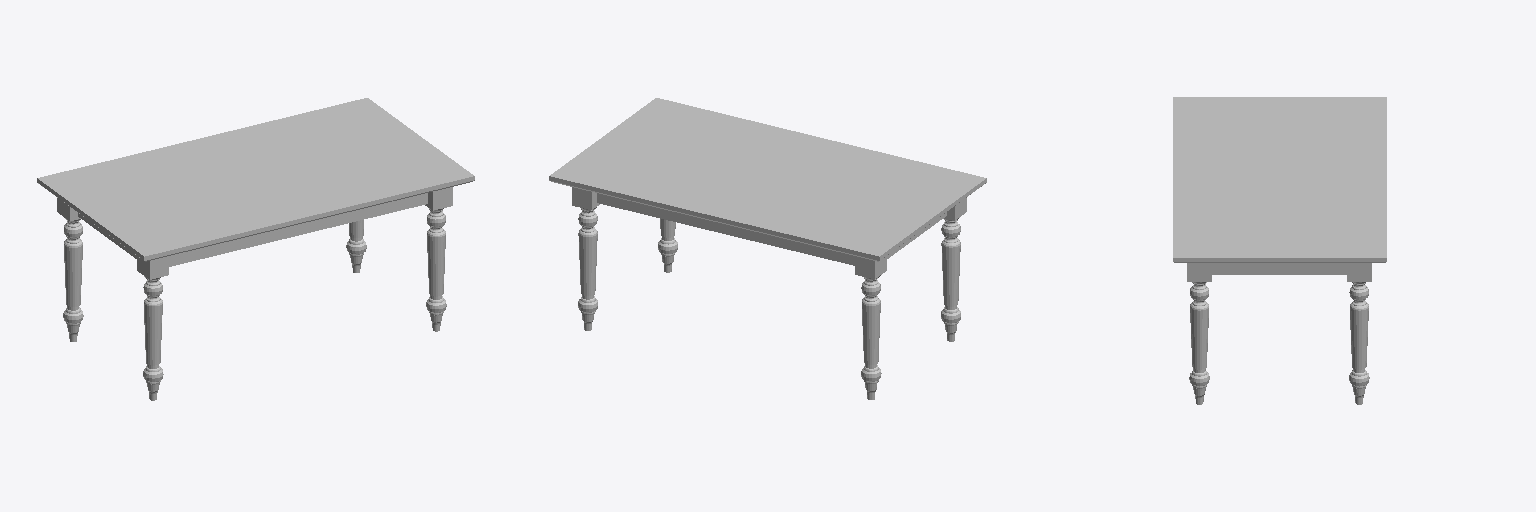
File: table.obj
3 renders of one model, left to right at view 1: azimuth 30°, elevation 25°; view 2: azimuth 150°, elevation 25°; view 3: azimuth 270°, elevation 25°, orthographic.
Visible parts, largest first — view 1: table; view 2: table; view 3: table.
Part boxes in pixels (left/top/right/bottom): table: left=37, top=98, right=474, bottom=400; table: left=549, top=98, right=986, bottom=399; table: left=1173, top=97, right=1386, bottom=404.
Bounding box in the file's own units: 160 × 73 × 90.